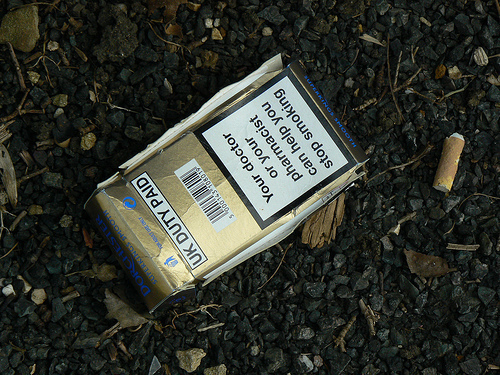litter: (82, 51, 370, 315), (432, 130, 463, 192)
